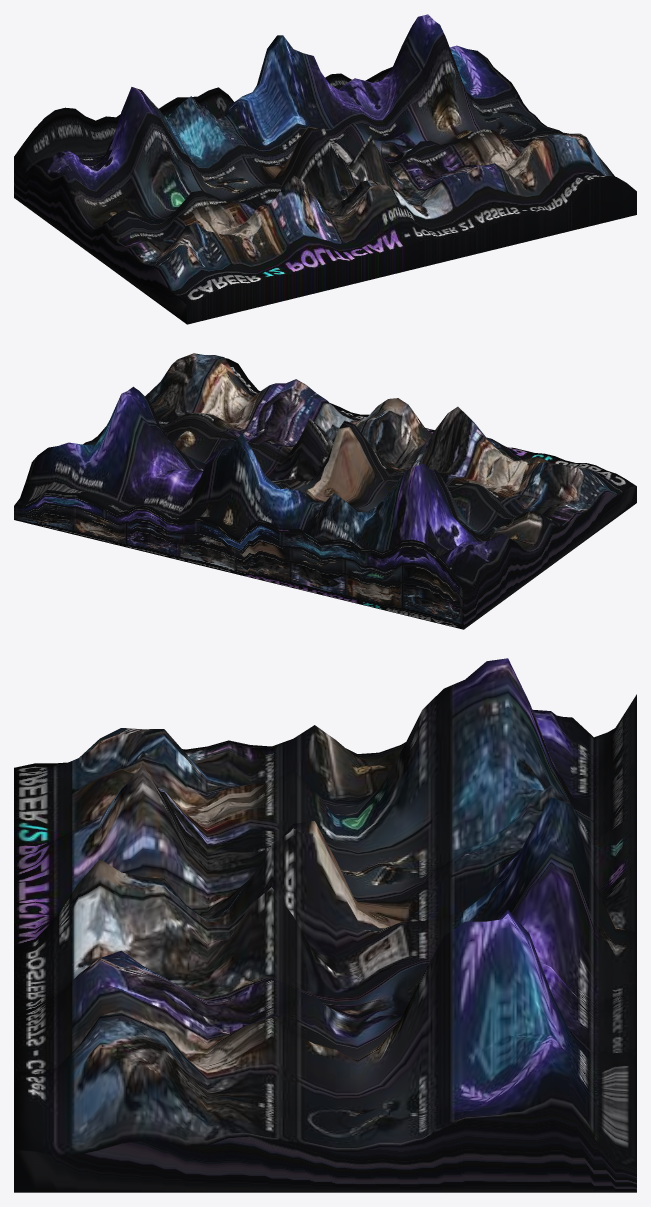
Rendered from CAREER_12_Poster_21.glb.
3 views of the same model, one above another, from view 1: azimuth 30°, elevation 25°; view 2: azimuth 150°, elevation 25°; view 3: azimuth 270°, elevation 25° (orthographic). The views are drawn at different scales.
Parts seen in each view (by area): view 1: CAREER_12_Poster_21; view 2: CAREER_12_Poster_21; view 3: CAREER_12_Poster_21.
Part boxes in pixels (box(x1,y1,x2,y2)): CAREER_12_Poster_21: box(14, 14, 636, 324); CAREER_12_Poster_21: box(14, 353, 636, 629); CAREER_12_Poster_21: box(14, 658, 636, 1192).
Size of the model in its own units: 2 by 0.51 by 1.33.
1 material, 1 textured.
